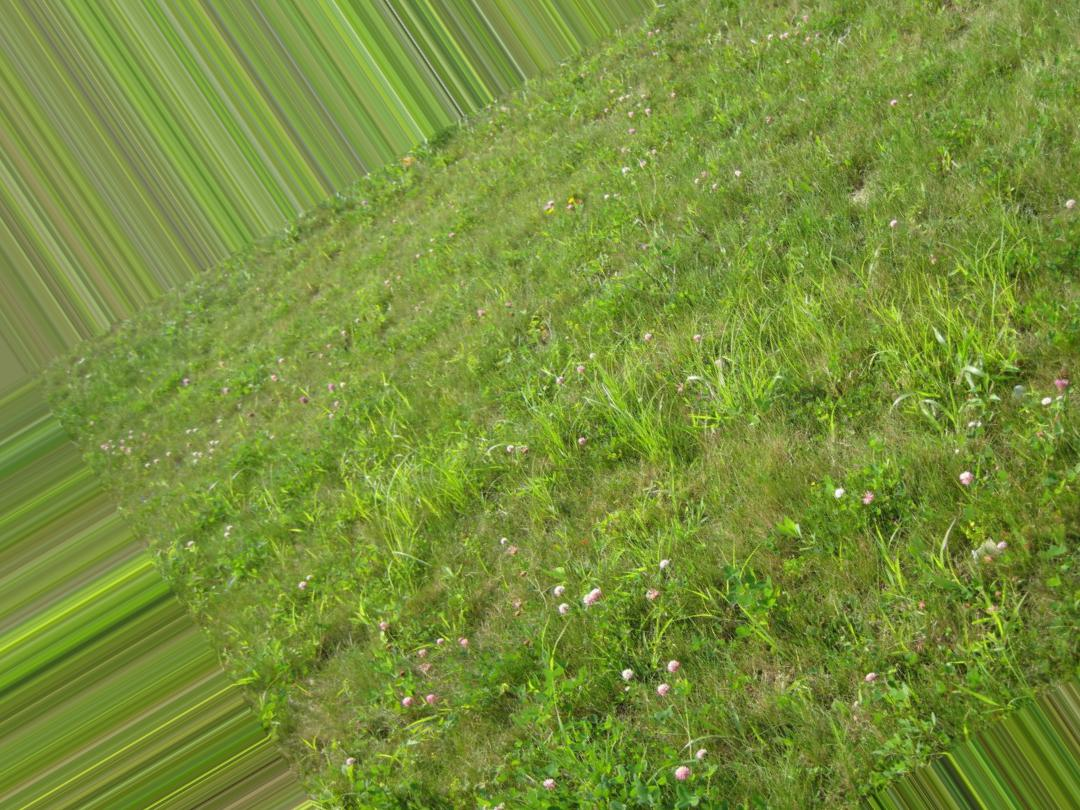patch: (705, 461, 779, 532)
